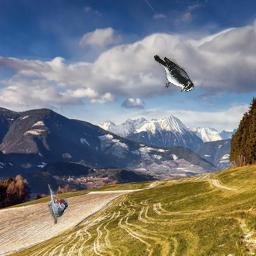Sparrow: (48, 184, 68, 224)
Woodpecker: (154, 55, 194, 92)
